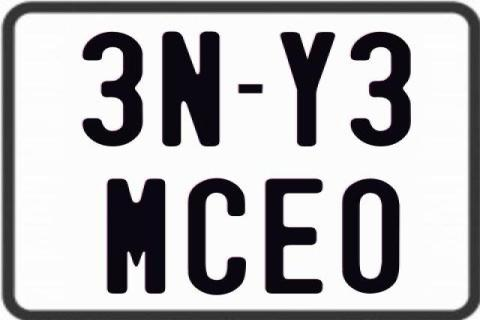0: (351, 30, 416, 150), (341, 177, 405, 295), (84, 29, 146, 149)
C: (186, 177, 249, 297)
E: (262, 177, 326, 295)
M: (105, 177, 164, 293)
N: (161, 29, 222, 150)
Y: (278, 31, 338, 149)
